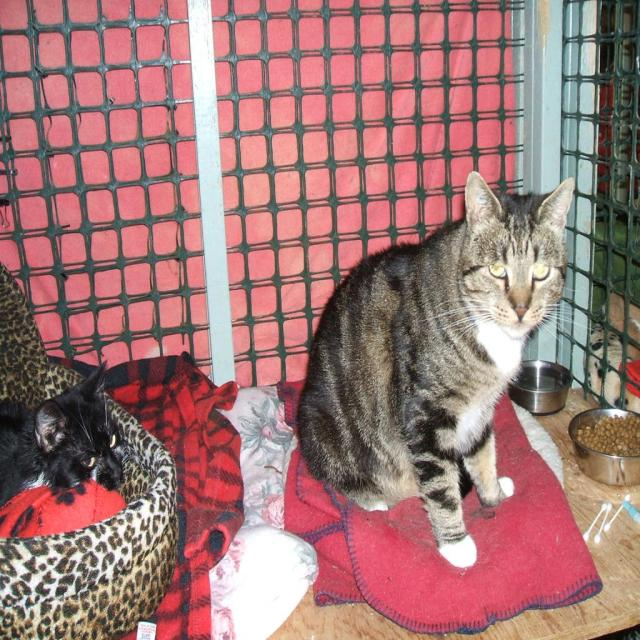Cat: (295, 167, 599, 570), (0, 365, 132, 491)
